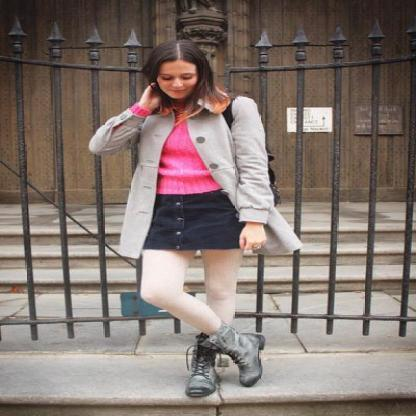jacket: (88, 86, 311, 261)
shirt: (158, 106, 222, 194)
shoe: (175, 324, 265, 398)
skirt: (142, 189, 246, 250)
